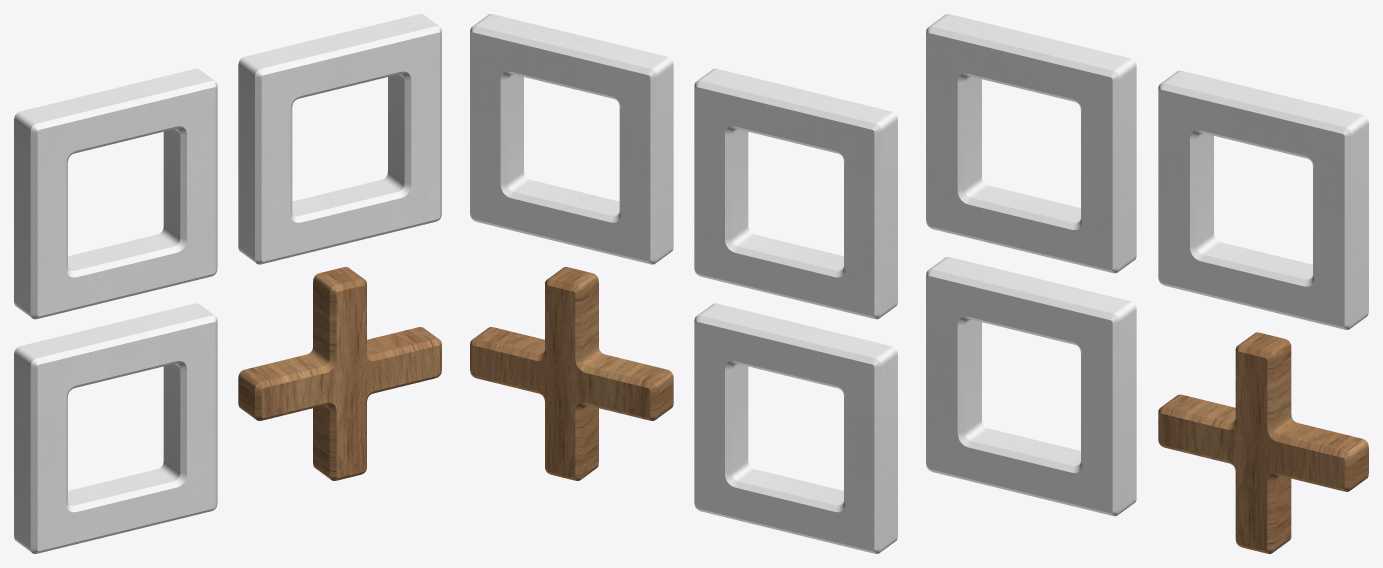
The model's file is extensions.glb.
The picture shows the model from 3 angles, left to right: view 1: azimuth 30°, elevation 25°; view 2: azimuth 150°, elevation 25°; view 3: azimuth 330°, elevation 25°; orthographic projection. The views are drawn at different scales.
Parts seen in each view (by area): view 1: Icon; view 2: Icon; view 3: Icon.
Boxes of the visible parts, x1=… form: Icon: x1=14, y1=14, x2=441, y2=553; Icon: x1=470, y1=14, x2=897, y2=553; Icon: x1=926, y1=14, x2=1368, y2=553.
Size of the model in its own units: 0.2 by 0.2 by 0.0182.
2 materials, 2 textured.
